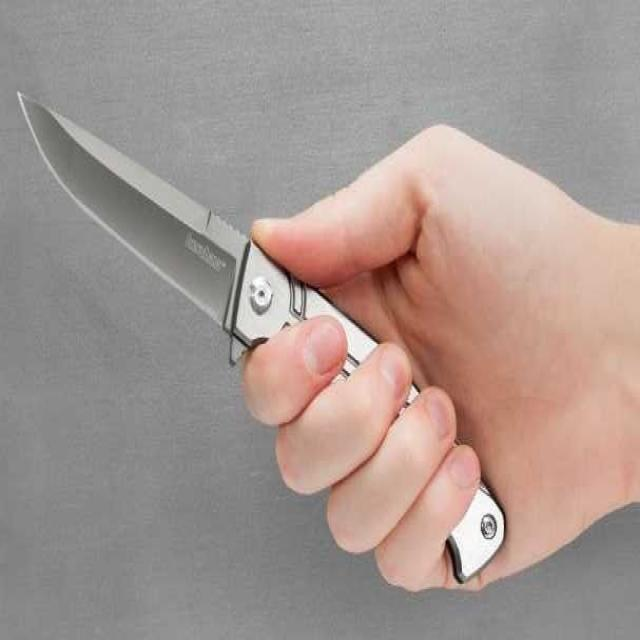Knife: (10, 73, 516, 608)
